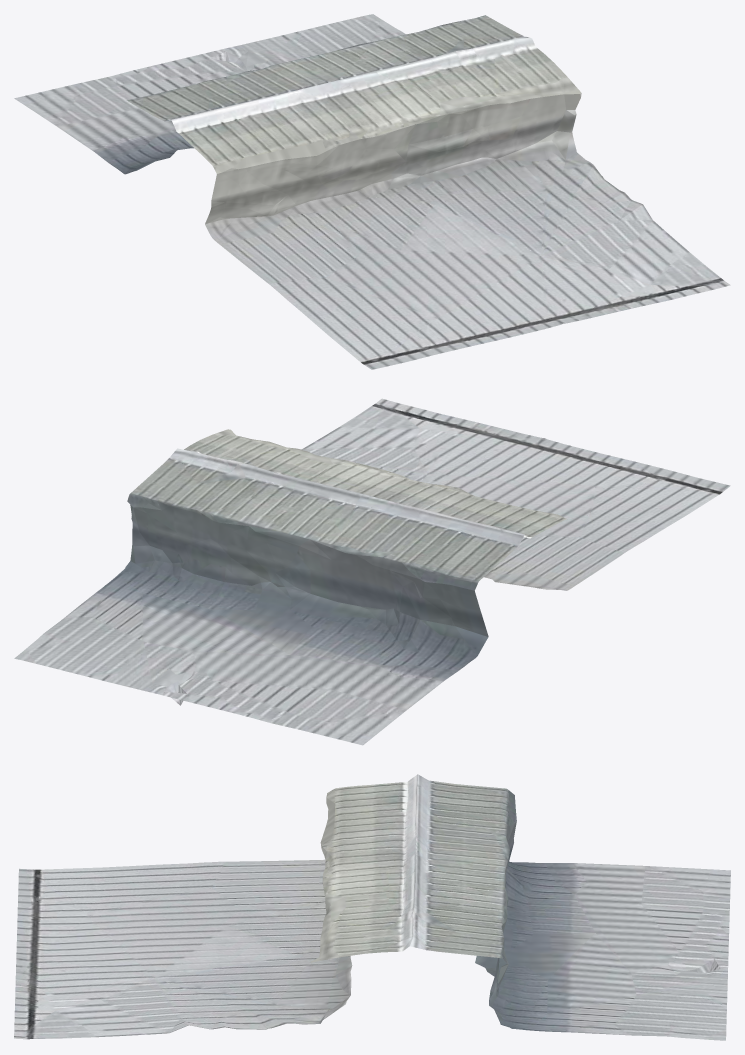
Rendered from Tile_+006_+005_L21_0uuuu331.glb.
The picture shows the model from 3 angles, top to bottom: view 1: azimuth 30°, elevation 25°; view 2: azimuth 150°, elevation 25°; view 3: azimuth 270°, elevation 25°; orthographic projection. The views are drawn at different scales.
Parts seen in each view (by area): view 1: rtc; view 2: rtc; view 3: rtc.
Boxes of the visible parts, x1,y1,x2,y2 form: rtc: (14, 14, 730, 369); rtc: (14, 398, 730, 745); rtc: (14, 774, 730, 1040).
Bounding box in the file's own units: 12.81 × 3.88 × 22.4.
1 material, 1 textured.
